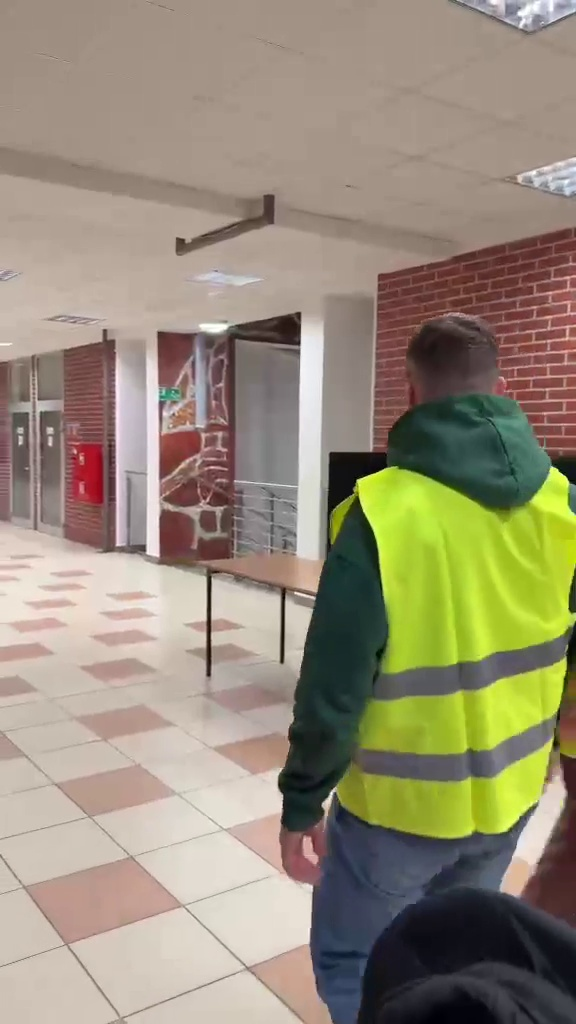vest: (275, 301, 576, 956)
